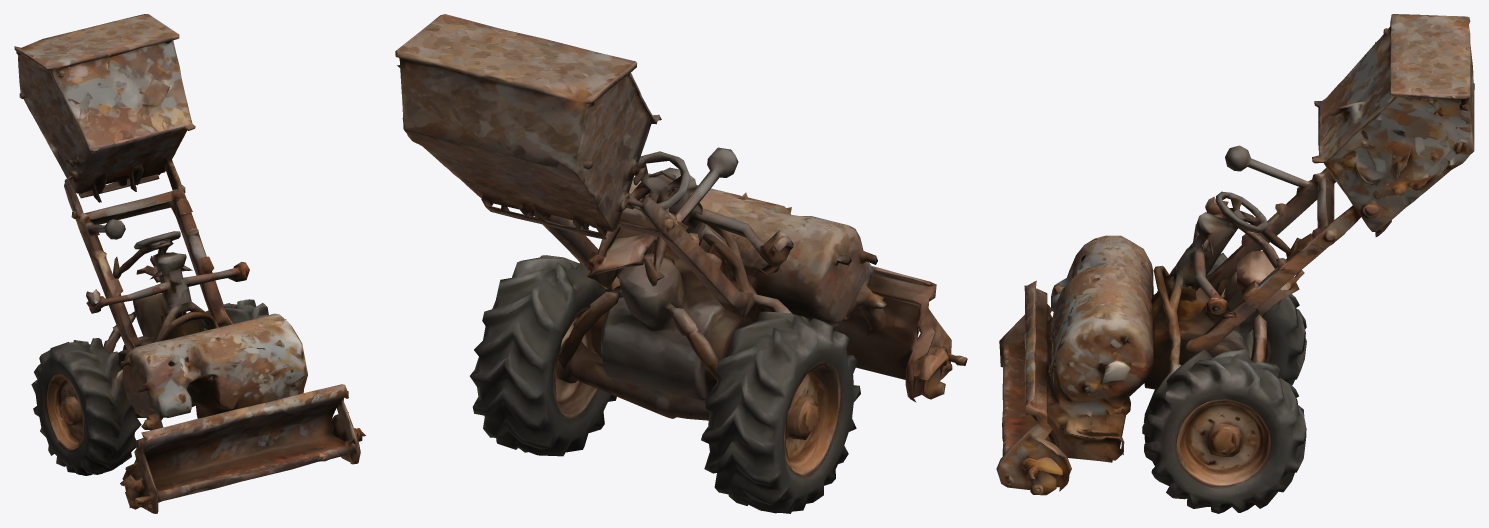
File: tripo_convert_9adb1875-588b-4a97-9754-94507ee78a39.fbx
3 views of the same model, side by side, from view 1: azimuth 30°, elevation 25°; view 2: azimuth 150°, elevation 25°; view 3: azimuth 270°, elevation 25° (orthographic). The views are drawn at different scales.
Visible parts, largest first — view 1: tripo_node_9adb1875; view 2: tripo_node_9adb1875; view 3: tripo_node_9adb1875.
Part boxes in pixels (x1=…): tripo_node_9adb1875: x1=14, y1=14, x2=365, y2=513; tripo_node_9adb1875: x1=395, y1=14, x2=967, y2=513; tripo_node_9adb1875: x1=996, y1=14, x2=1474, y2=513.
Size of the model in its own units: 0.6965 by 0.9636 by 1.
1 material, 1 textured.
